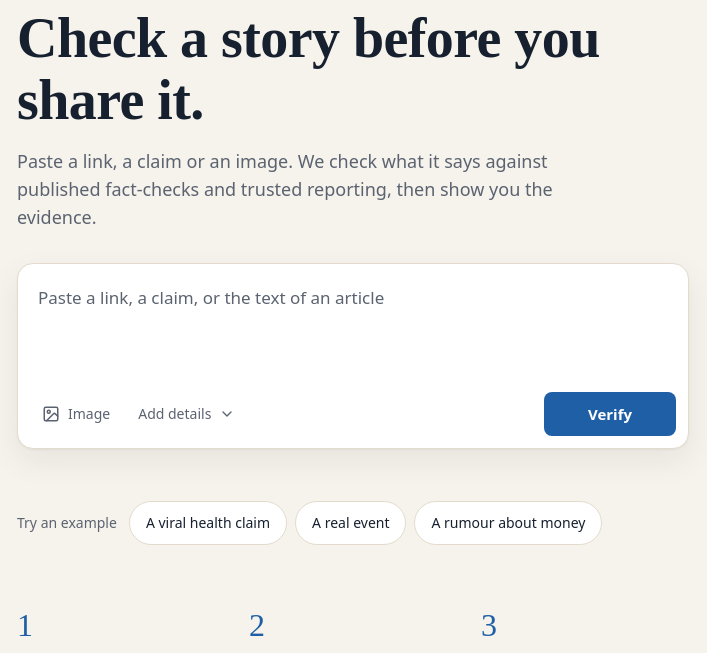
the desk › fills the field and runs the check when an example is chosen
This screenshot has width=707, height=653.
Click the button "A real event" at (351,523), box [295, 501, 406, 545]
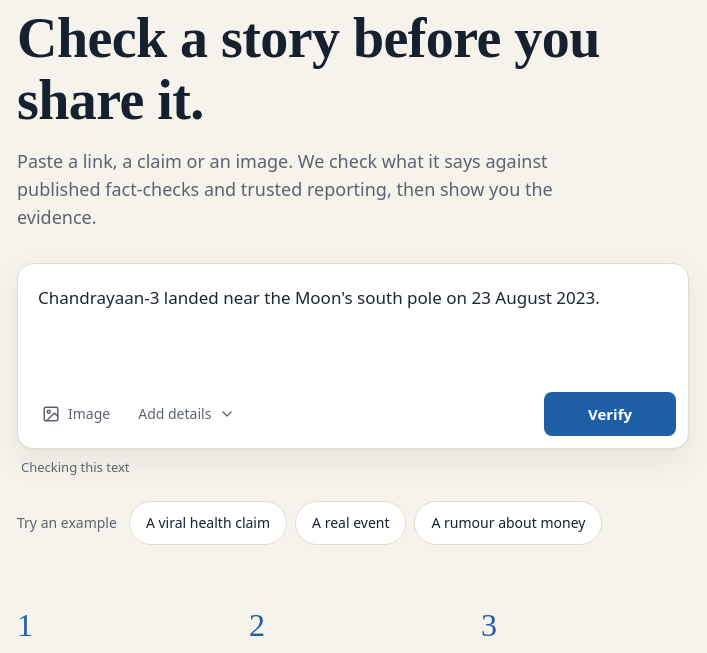
Expected: the text box named "Paste a link, a claim, or the text of an article" holds "Chandrayaan-3 landed near the Moon's south pole on 23 August 2023.", [18, 264, 688, 388]
